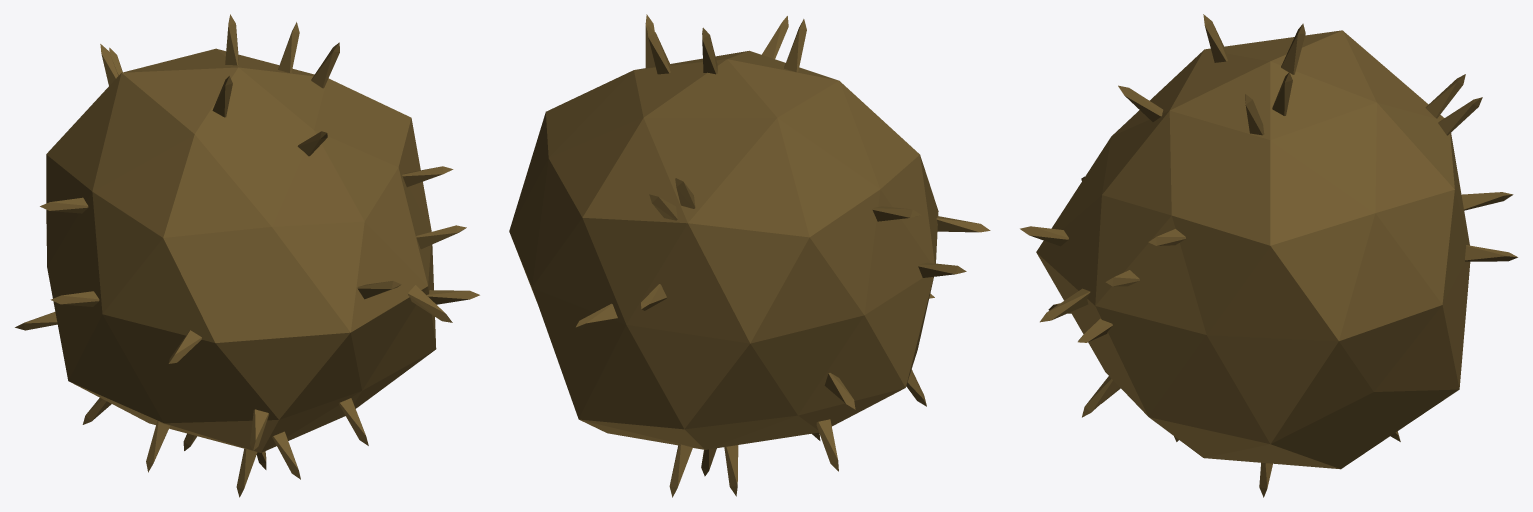
File: Player.obj
3 views of the same model, side by side, from view 1: azimuth 30°, elevation 25°; view 2: azimuth 150°, elevation 25°; view 3: azimuth 270°, elevation 25° (orthographic). The views are drawn at different scales.
Parts seen in each view (by area): view 1: Body; view 2: Body; view 3: Body.
Boxes of the visible parts, bbox=[...] form: Body: bbox=[15, 14, 479, 497]; Body: bbox=[509, 14, 990, 497]; Body: bbox=[1020, 14, 1517, 497].
Bounding box in the file's own units: 2.17 × 2.41 × 2.34.
Materials: 1 (1 with a texture image).
